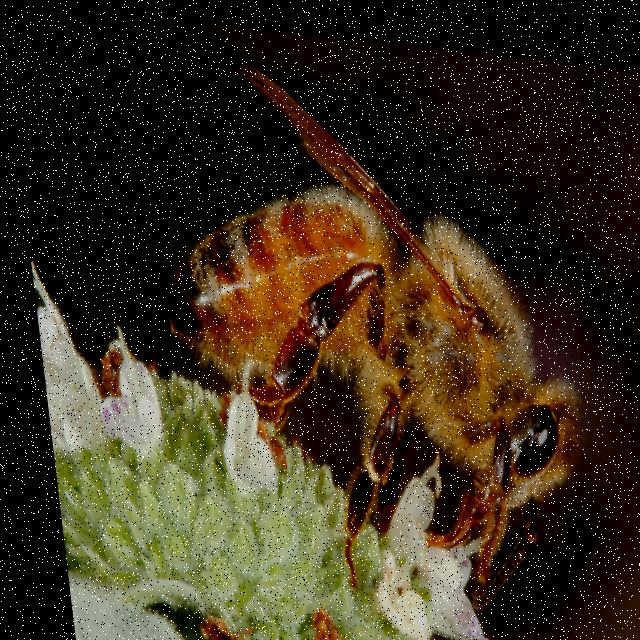Apis-mellifera-scutellata: (119, 10, 597, 640)
